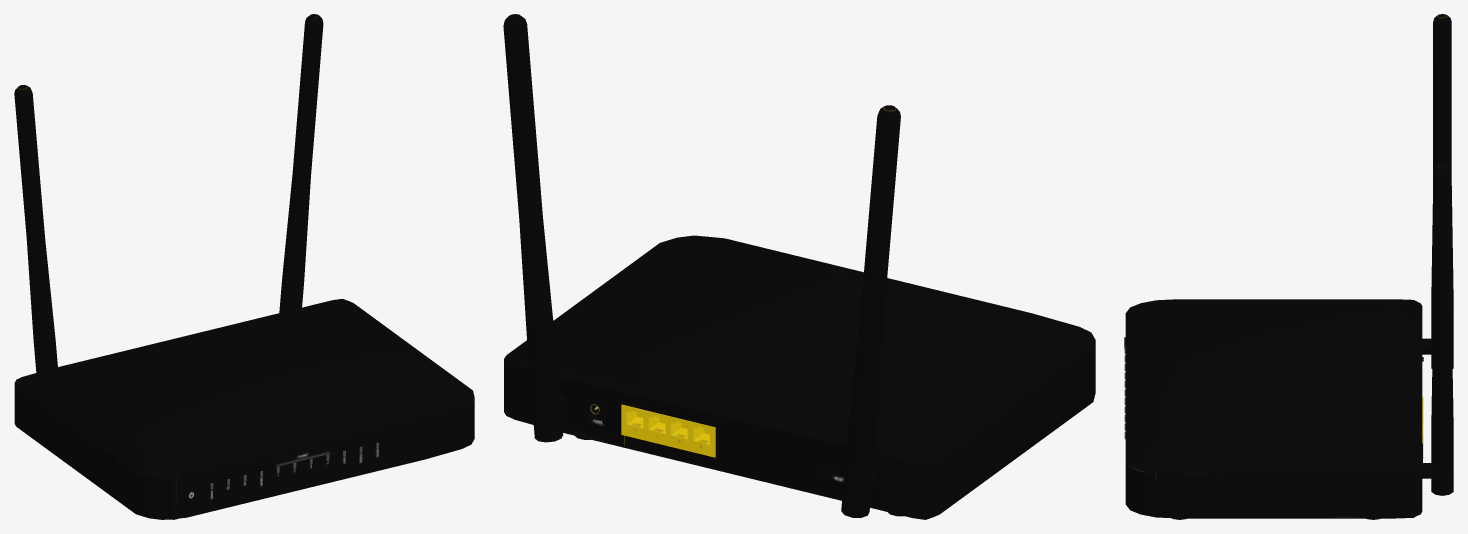
3 views of the same model, side by side, from view 1: azimuth 30°, elevation 25°; view 2: azimuth 150°, elevation 25°; view 3: azimuth 270°, elevation 25° (orthographic). The views are drawn at different scales.
Visible parts, largest first — view 1: Router; view 2: Router; view 3: Router.
Part boxes in pixels (x1=…): Router: x1=14, y1=14, x2=474, y2=519; Router: x1=503, y1=14, x2=1095, y2=519; Router: x1=1124, y1=14, x2=1453, y2=519.
Bounding box in the file's own units: 0.2029 × 0.1979 × 0.1628.
1 material, 1 textured.
